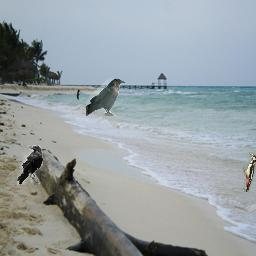Crow: (86, 78, 126, 116), (17, 145, 43, 185)
Woodpecker: (242, 152, 256, 192)
